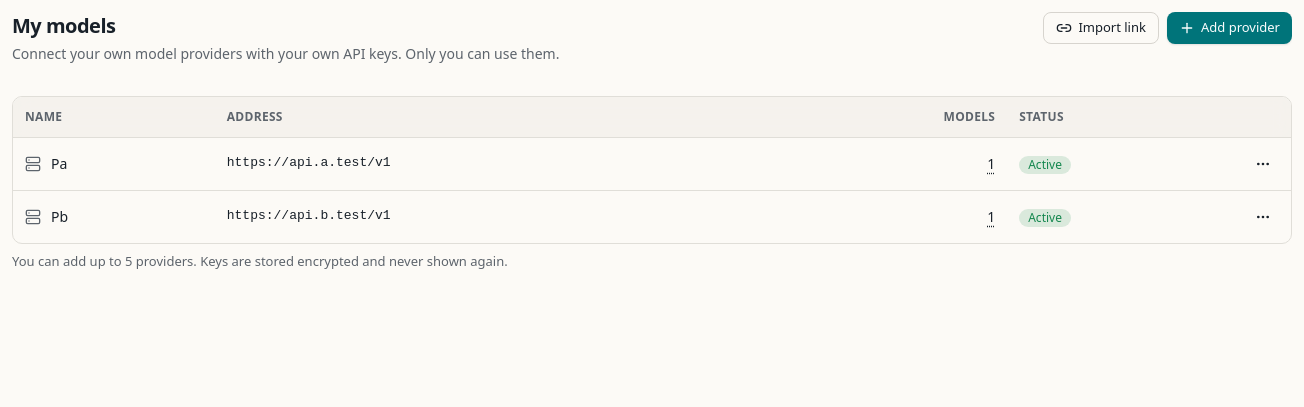
Test case: ModelsSettingsPage › keeps both results when two rows finish their toggles out of order
The image size is (1304, 407).
Click the button named "actions" at (1263, 164), box [1247,148,1279,180]
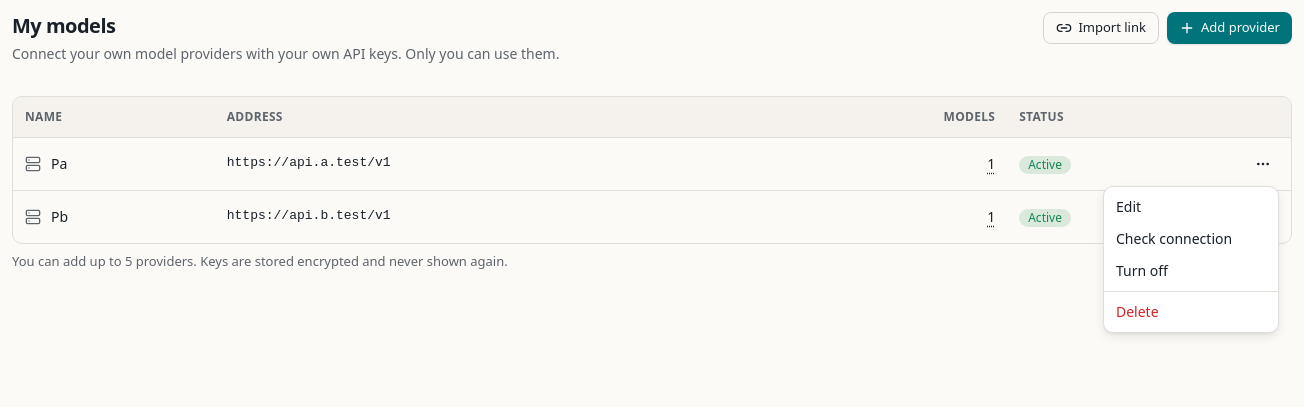
Click the menu item "Turn off" at (1142, 270), box [1116,261,1168,280]
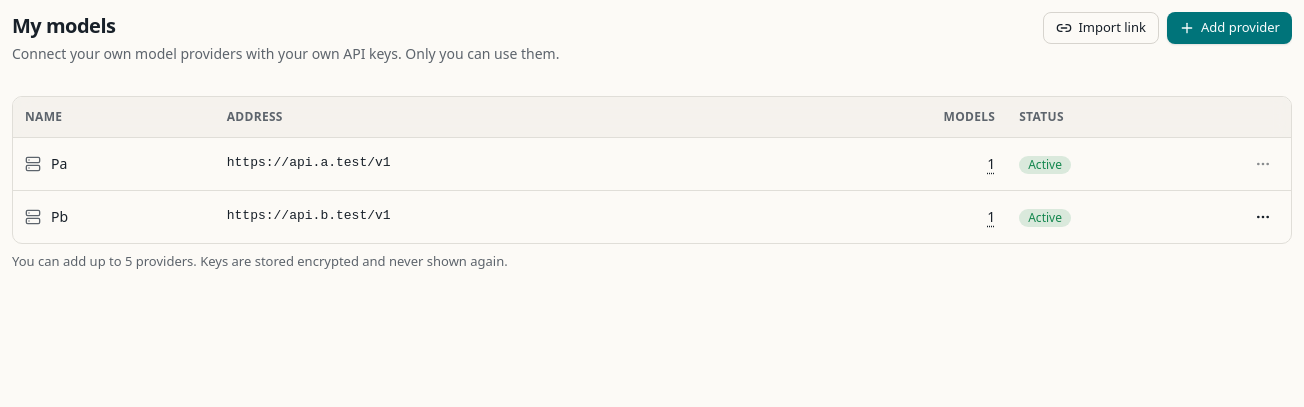
Click the button named "actions" at (1263, 216), box [1247,200,1279,232]
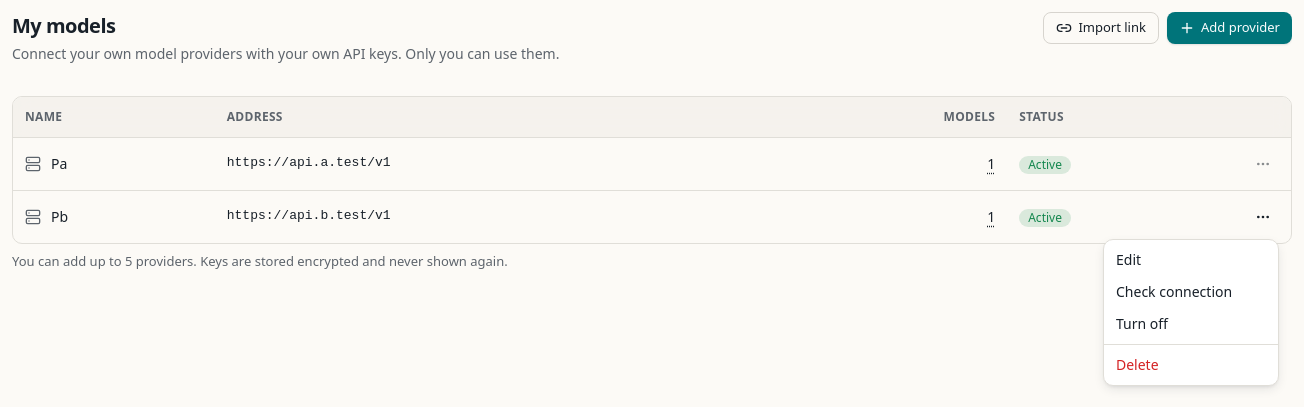
Click the menu item "Turn off" at (1142, 324), box [1116,314,1168,333]
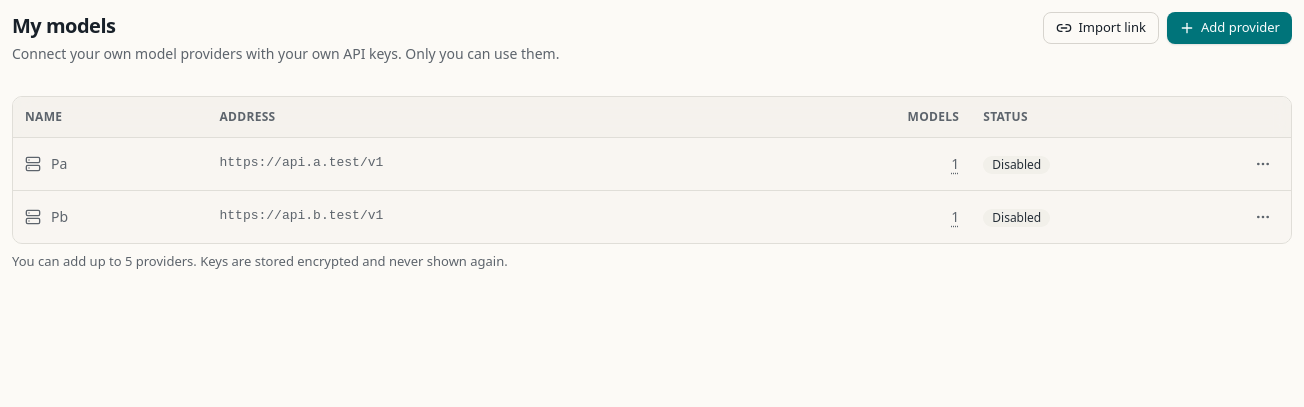
Result: the text "Disabled" in the row of "Pa" is shown at [992,156,1041,172]
Result: the text "Disabled" in the row of "Pb" is shown at [992,208,1041,226]
